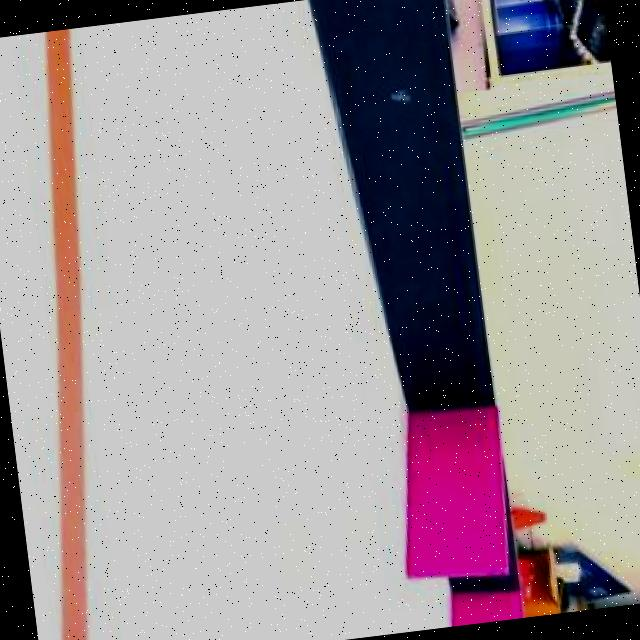xparking: (404, 406, 509, 582), (452, 595, 520, 626)
